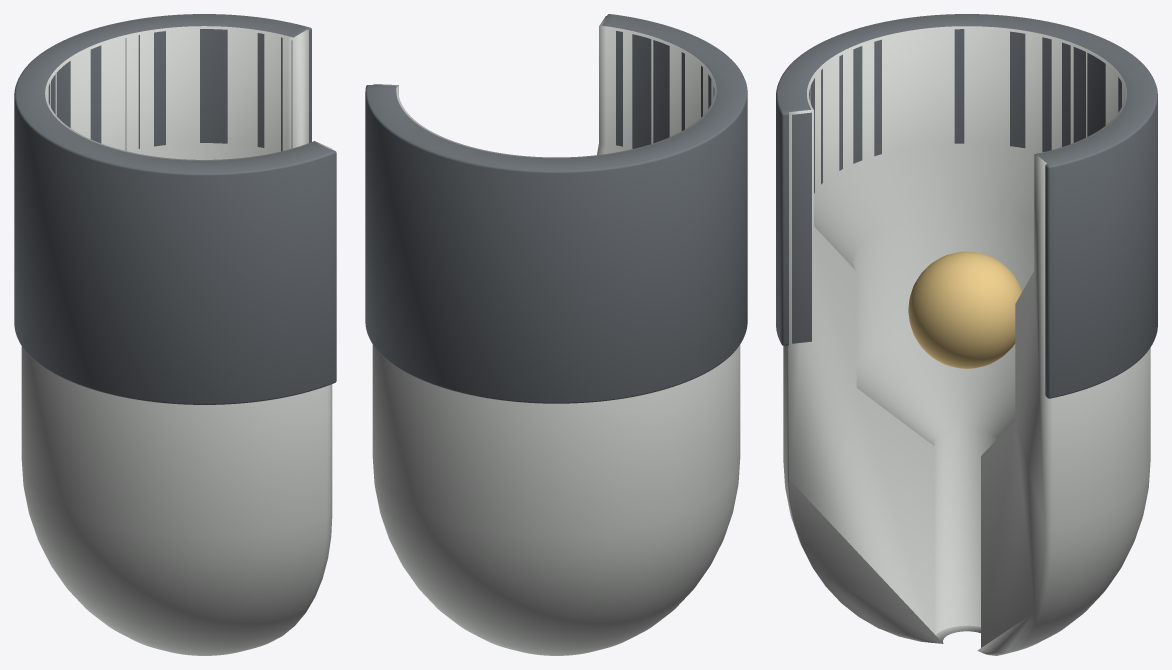
The model's file is float-shoe.glb.
3 views of the same model, side by side, from view 1: azimuth 30°, elevation 25°; view 2: azimuth 150°, elevation 25°; view 3: azimuth 270°, elevation 25° (orthographic).
Visible parts, largest first — view 1: Shoe body, Steel collar; view 2: Steel collar, Shoe body; view 3: Shoe body, Steel collar, Sphere.
Boxes of the visible parts, x1,y1,x2,y2 form: Shoe body: (21, 26, 332, 655); Steel collar: (14, 14, 336, 404); Steel collar: (365, 14, 747, 403); Shoe body: (372, 16, 740, 655); Shoe body: (783, 26, 1150, 655); Steel collar: (776, 14, 1157, 398); Sphere: (908, 251, 1022, 368).
Bounding box in the file's own units: 1.98 × 3.29 × 2.08.
